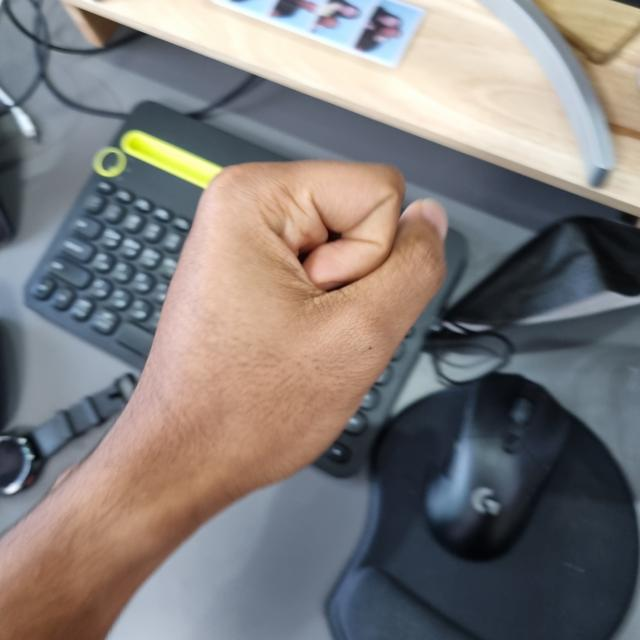Rock: (131, 159, 449, 489)
